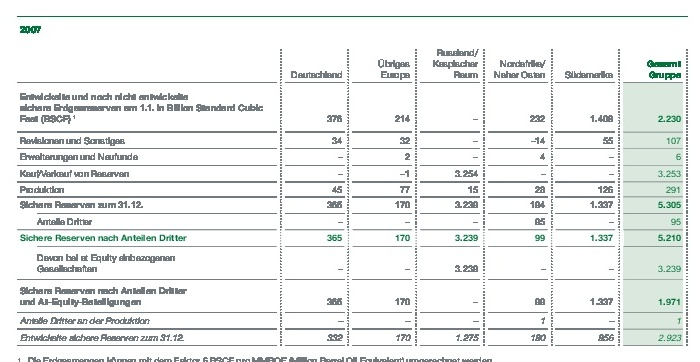table: (0, 0, 700, 362)
